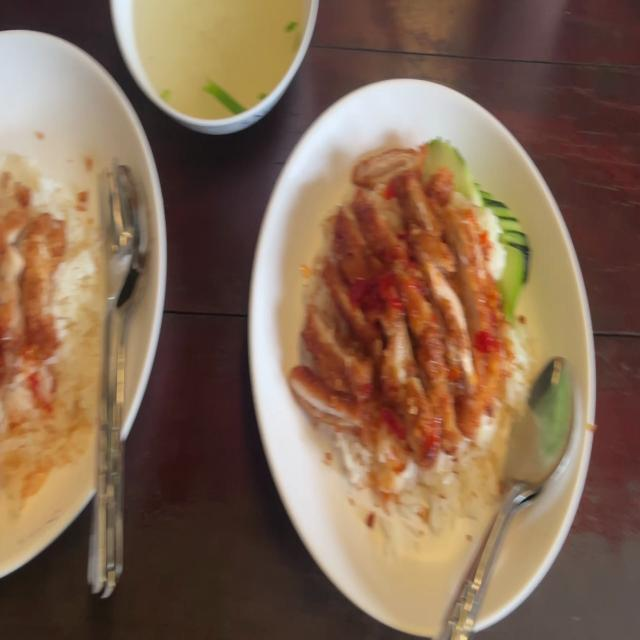chicken_rice: (291, 132, 544, 558), (0, 132, 115, 501)
cucumber: (421, 134, 535, 321)
fried_chicken: (288, 145, 511, 457), (0, 180, 58, 400)
